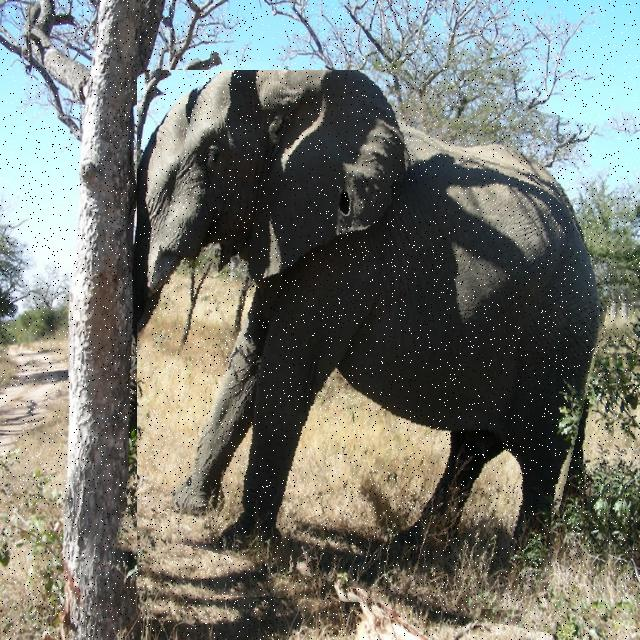elephant: (137, 70, 630, 615)
